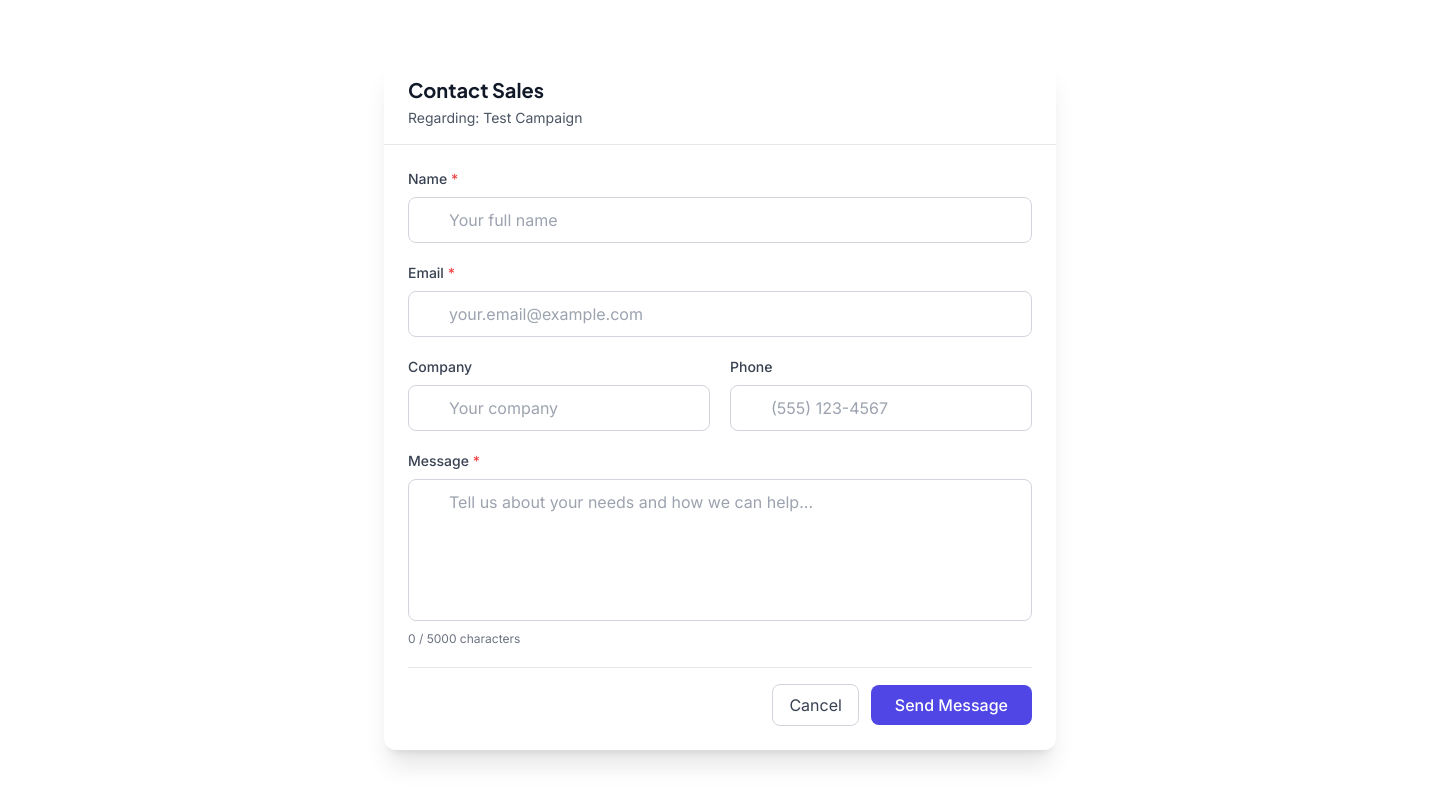
Test case: ContactSalesModal › shows success message after submission
Step 1. Type "John Doe" into the field labelled "Name *" → (720, 220), box [408, 197, 1032, 243]
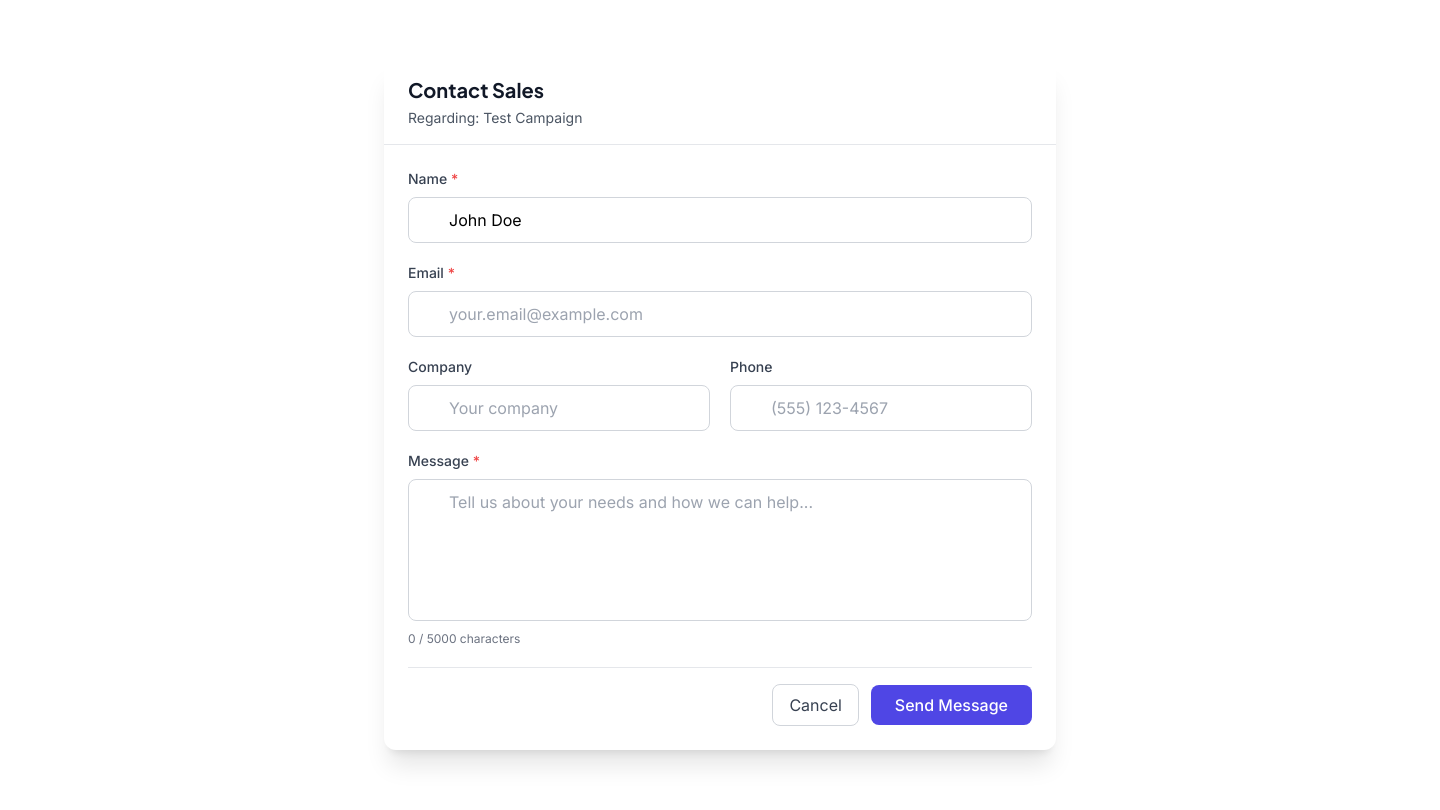
Step 2. Type "john@example.com" into the field labelled "Email *" → (720, 314), box [408, 291, 1032, 337]
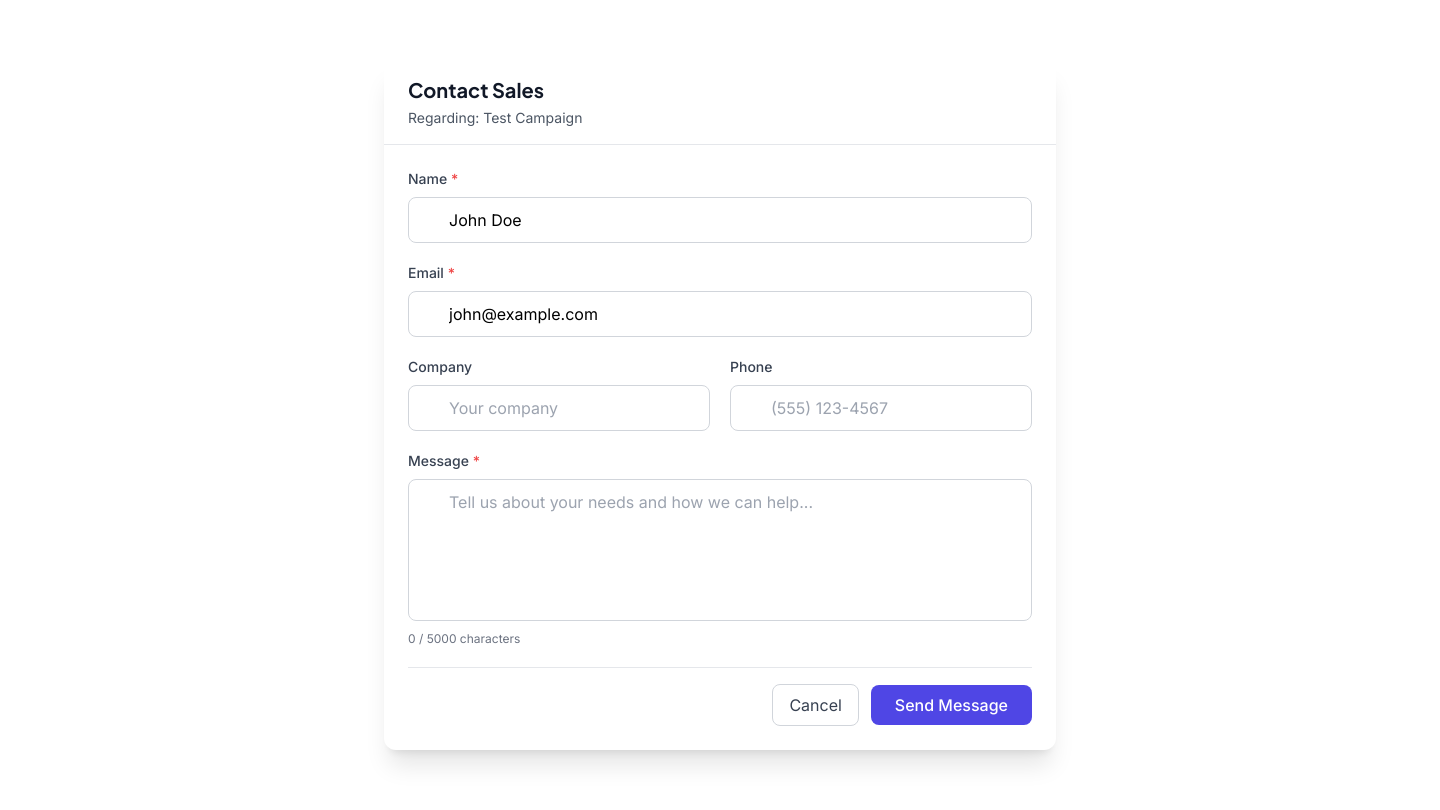
Step 3. Type "I am interested in learning more." into the text box labelled "Message *" → (720, 550), box [408, 479, 1032, 621]
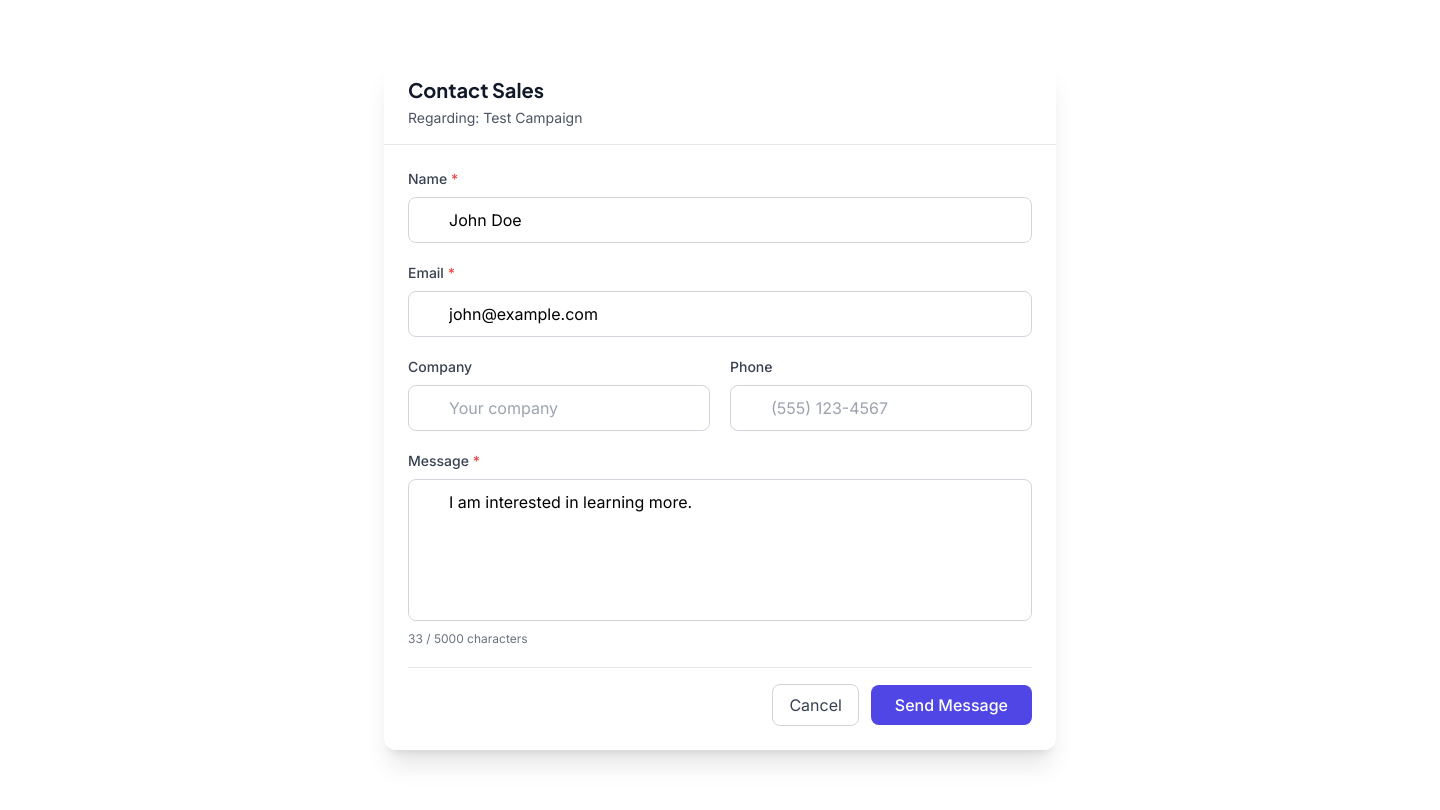
Step 4. Click the button "Send Message" → (951, 705), box [871, 685, 1032, 725]
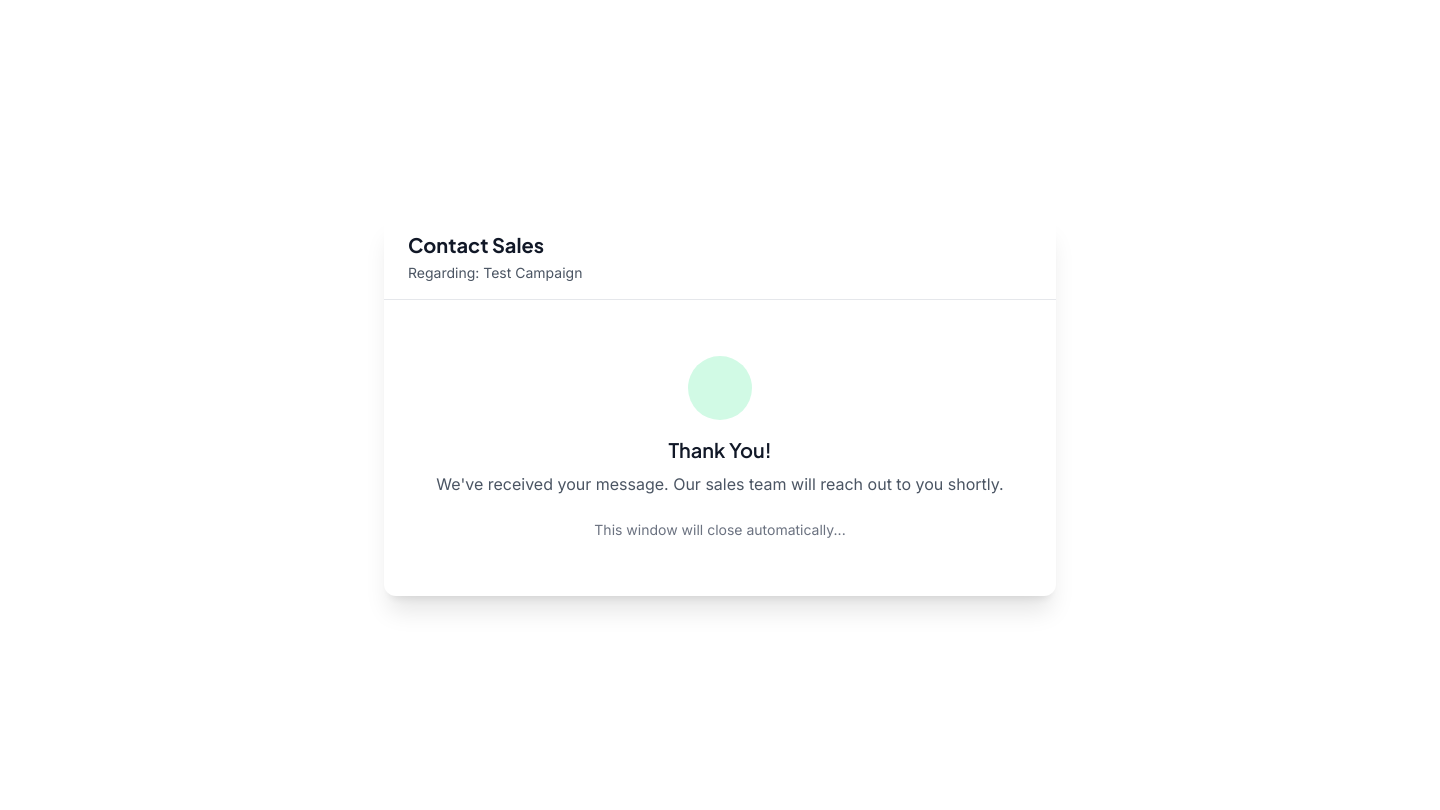
Check: the heading "Thank You!" is shown, box [668, 436, 772, 462]
Check: the text "sales team will reach out" is shown, box [436, 474, 1004, 494]
